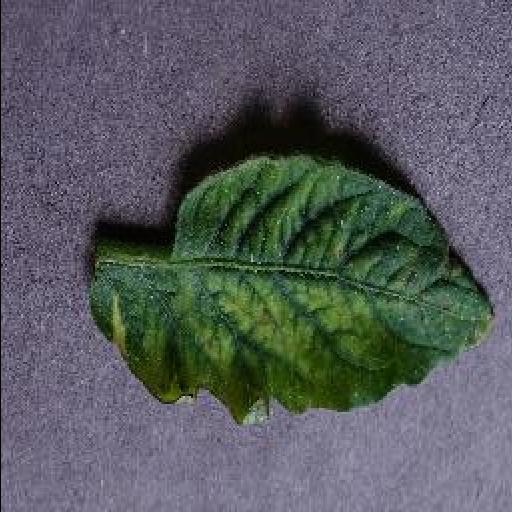disease_tomato: (86, 149, 498, 428)
